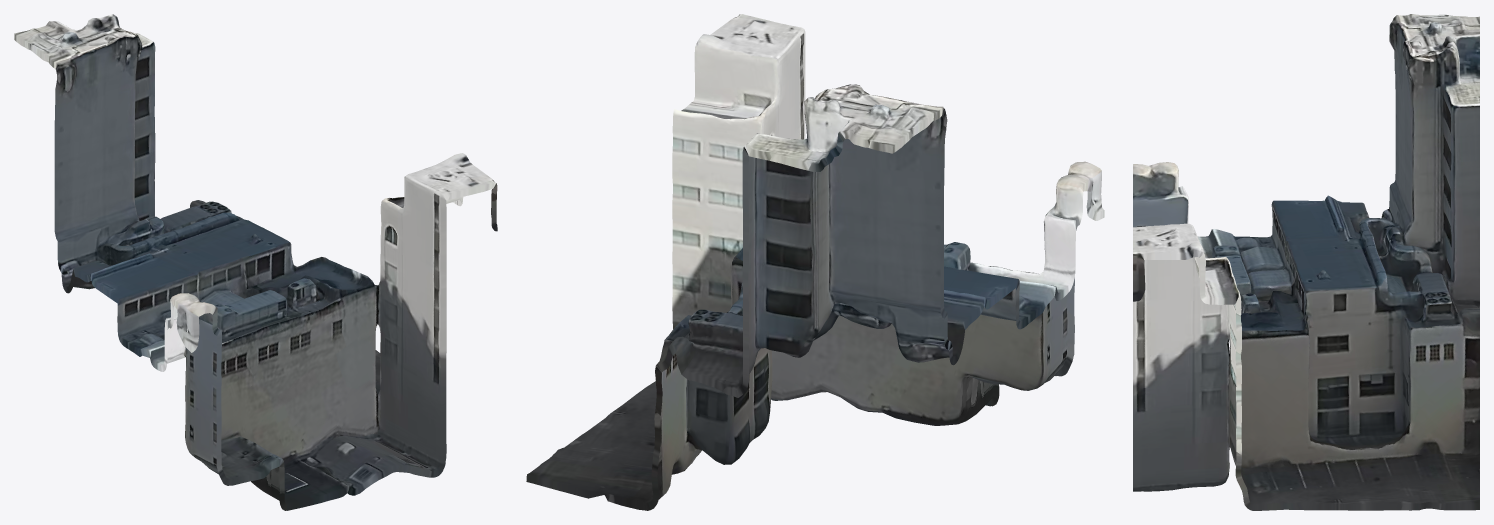
Rendered from z20-167754-405237-h0-yup-uvflip-v3-world.glb.
3 renders of one model, left to right at view 1: azimuth 30°, elevation 25°; view 2: azimuth 150°, elevation 25°; view 3: azimuth 270°, elevation 25°, orthographic. The views are drawn at different scales.
Bounding box in the file's own units: 30.2 × 36.28 × 30.32.
Materials: 1 (1 with a texture image).
